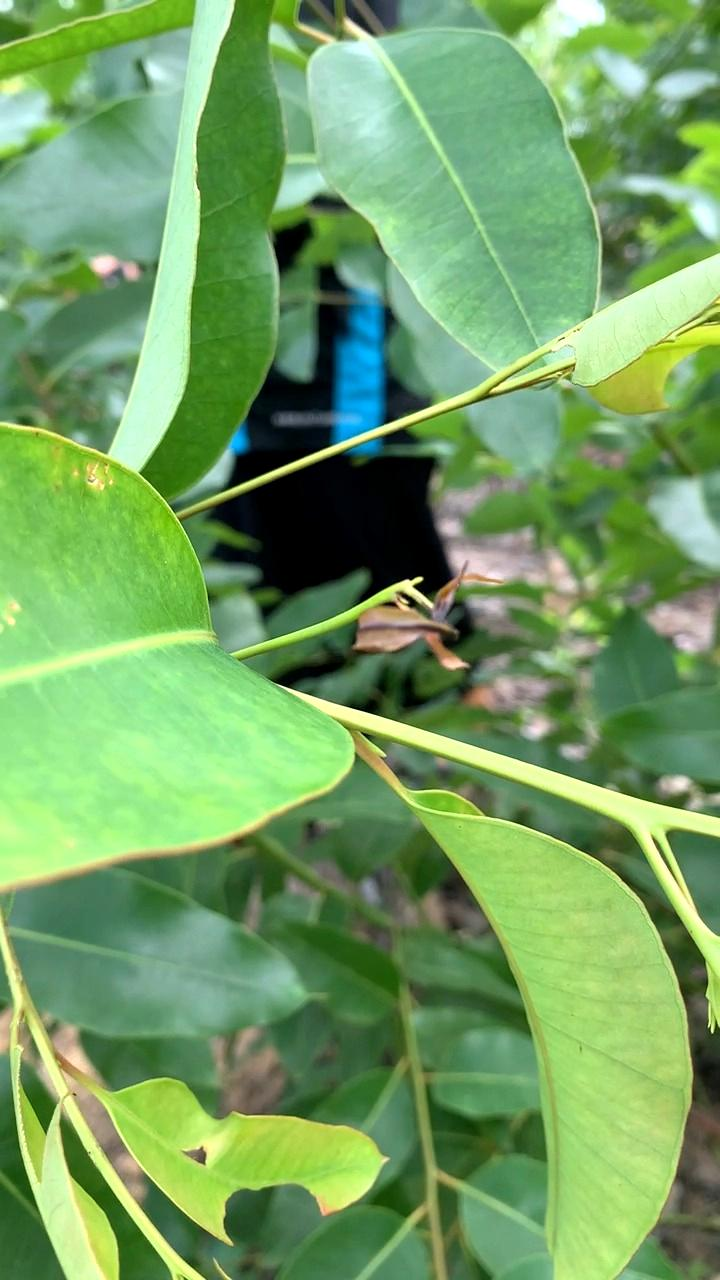Helopeltis-Withered Sprout: (350, 563, 495, 671)
